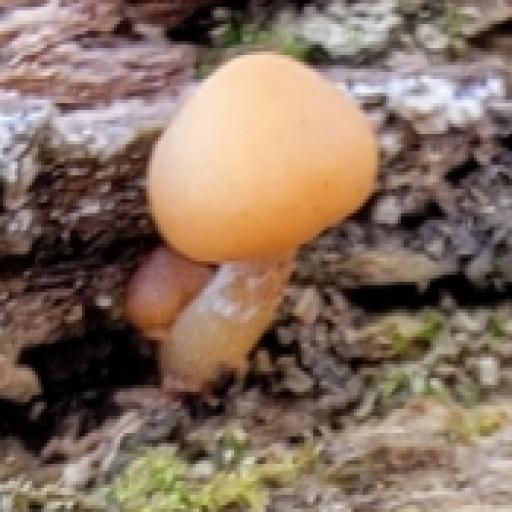mushroom: (53, 21, 409, 403)
